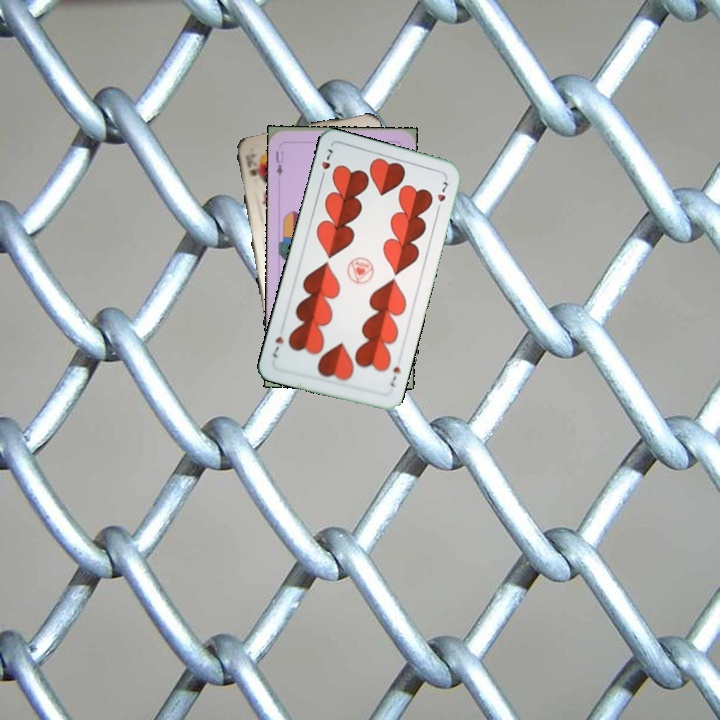EU: (272, 147, 286, 178)
H7: (317, 145, 335, 183), (386, 362, 403, 389)
SK: (244, 150, 263, 183)
